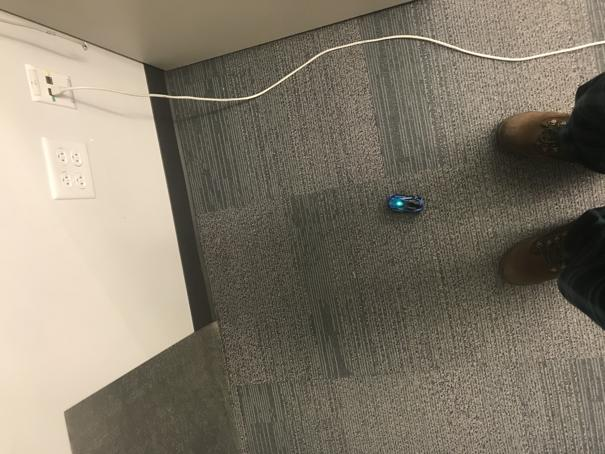Shock: (386, 193, 426, 216)
